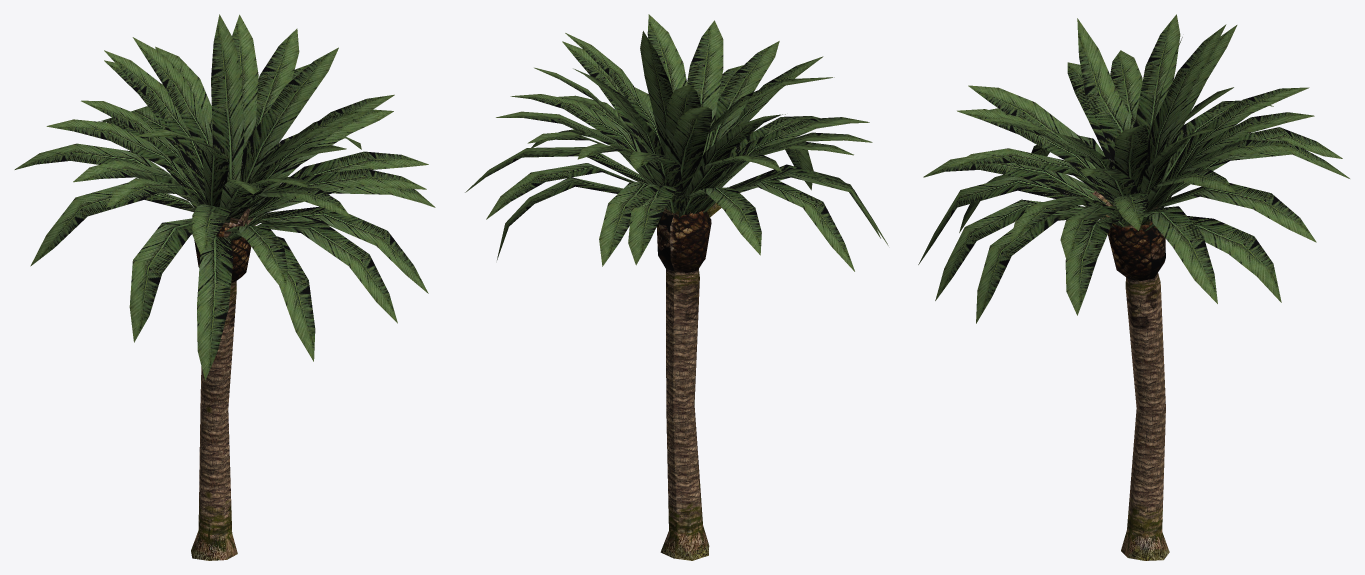
Rendered from arvore.fbx.
3 views of the same model, side by side, from view 1: azimuth 30°, elevation 25°; view 2: azimuth 150°, elevation 25°; view 3: azimuth 270°, elevation 25° (orthographic).
Parts seen in each view (by area): view 1: Palm_Tree:ENV_MP_Iraq_PalmTree_01; view 2: Palm_Tree:ENV_MP_Iraq_PalmTree_01; view 3: Palm_Tree:ENV_MP_Iraq_PalmTree_01.
Boxes of the visible parts, bbox=[...] form: Palm_Tree:ENV_MP_Iraq_PalmTree_01: bbox=[14, 14, 435, 560]; Palm_Tree:ENV_MP_Iraq_PalmTree_01: bbox=[465, 14, 888, 560]; Palm_Tree:ENV_MP_Iraq_PalmTree_01: bbox=[918, 14, 1349, 560].
Size of the model in its own units: 4.79 by 6.56 by 4.85.
